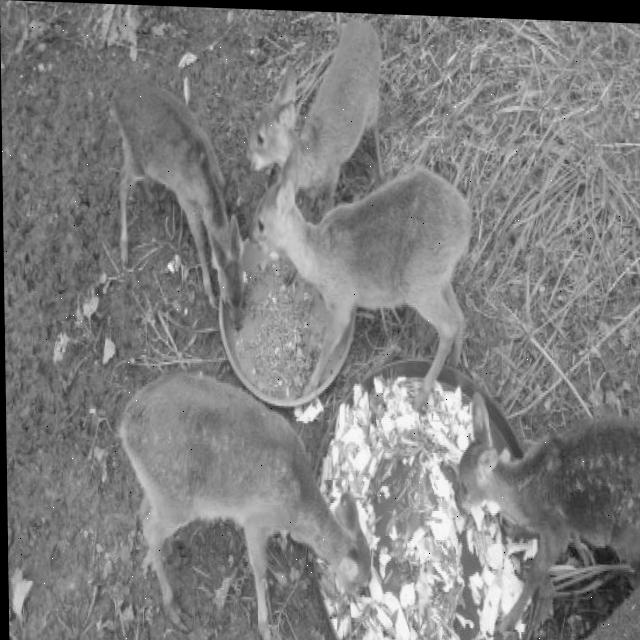Deer: (109, 373, 383, 640), (250, 158, 488, 409), (447, 401, 640, 640), (91, 79, 249, 358), (243, 21, 399, 178)
